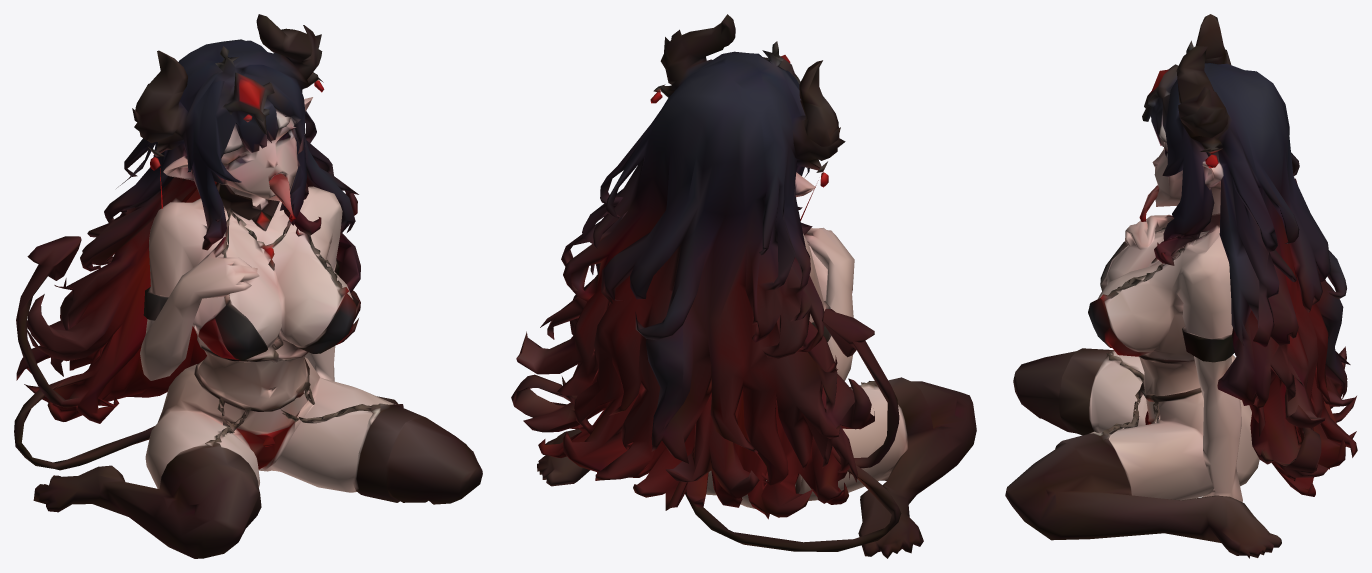
Rendered from 01a1a2e3-5193-7568-921d-f9804dae3f7a.glb.
3 renders of one model, left to right at view 1: azimuth 30°, elevation 25°; view 2: azimuth 150°, elevation 25°; view 3: azimuth 270°, elevation 25°, orthographic. The views are drawn at different scales.
Visible parts, largest first — view 1: model; view 2: model; view 3: model.
Boxes of the visible parts, box(x1,y1,x2,y2) form: model: box(14, 14, 482, 558); model: box(511, 14, 976, 558); model: box(1005, 14, 1357, 558).
Size of the model in its own units: 1.59 by 1.89 by 1.37.
